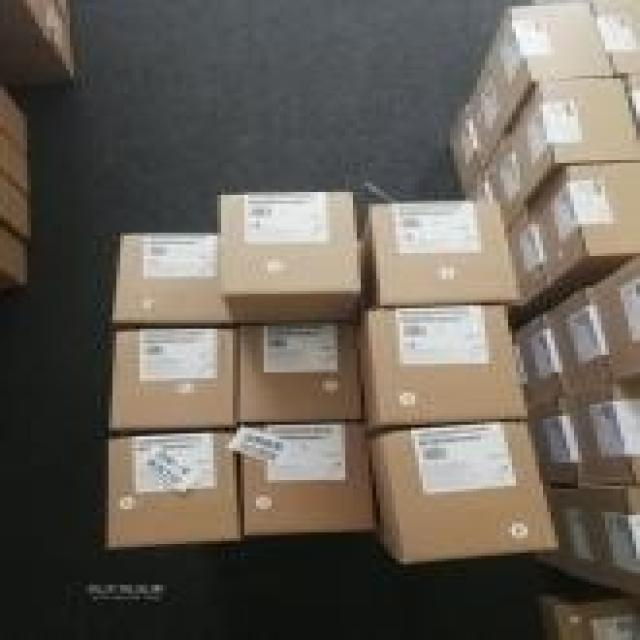Carton: (109, 320, 372, 532), (112, 192, 353, 320), (388, 419, 555, 561), (365, 305, 520, 422), (105, 433, 237, 547), (372, 201, 512, 303)
